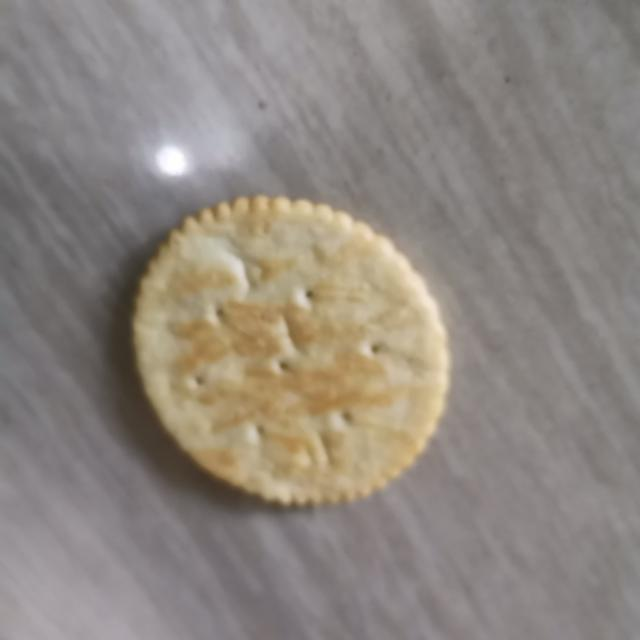Intact: (122, 187, 460, 518)
